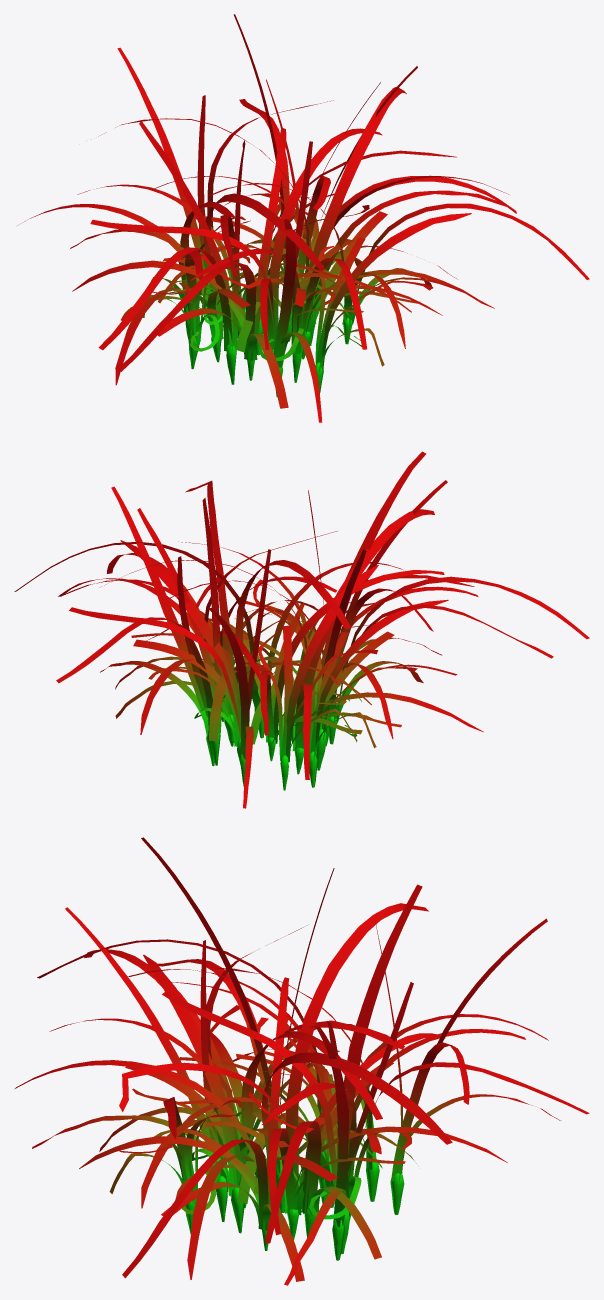
Rendered from QXL_Ribbon_Grass_tbdpec3r_2_LOD0.fbx.
3 views of the same model, one above another, from view 1: azimuth 30°, elevation 25°; view 2: azimuth 150°, elevation 25°; view 3: azimuth 270°, elevation 25° (orthographic). The views are drawn at different scales.
Visible parts, largest first — view 1: Var3_LOD0; view 2: Var3_LOD0; view 3: Var3_LOD0.
Part boxes in pixels (bbox=[...]): Var3_LOD0: bbox=[17, 14, 589, 422]; Var3_LOD0: bbox=[14, 451, 589, 808]; Var3_LOD0: bbox=[15, 837, 589, 1285].
Size of the model in its own units: 60.42 by 37.33 by 53.45.
